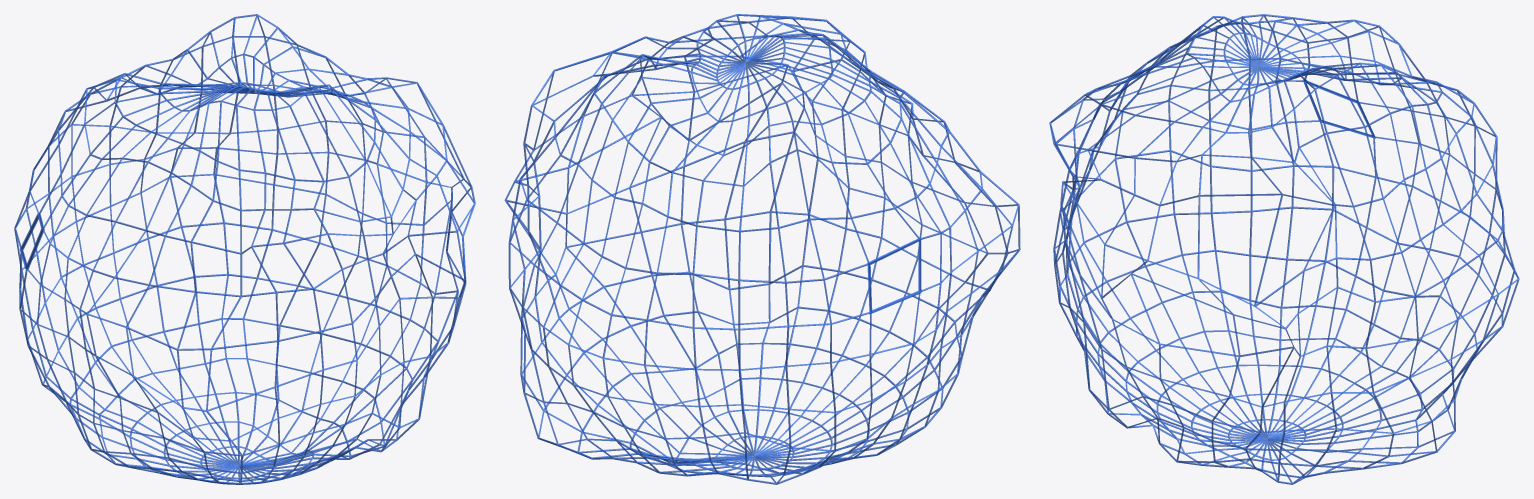
Rendered from entity_c3.glb.
The picture shows the model from 3 angles, left to right: view 1: azimuth 30°, elevation 25°; view 2: azimuth 150°, elevation 25°; view 3: azimuth 270°, elevation 25°; orthographic projection. The views are drawn at different scales.
Parts seen in each view (by area): view 1: entity1_3; view 2: entity1_3; view 3: entity1_3.
Part boxes in pixels (left/top/right/bottom): entity1_3: left=14, top=14, right=475, bottom=484; entity1_3: left=504, top=14, right=1020, bottom=484; entity1_3: left=1049, top=14, right=1519, bottom=484.
Size of the model in its own units: 1.27 by 1.18 by 1.19.
